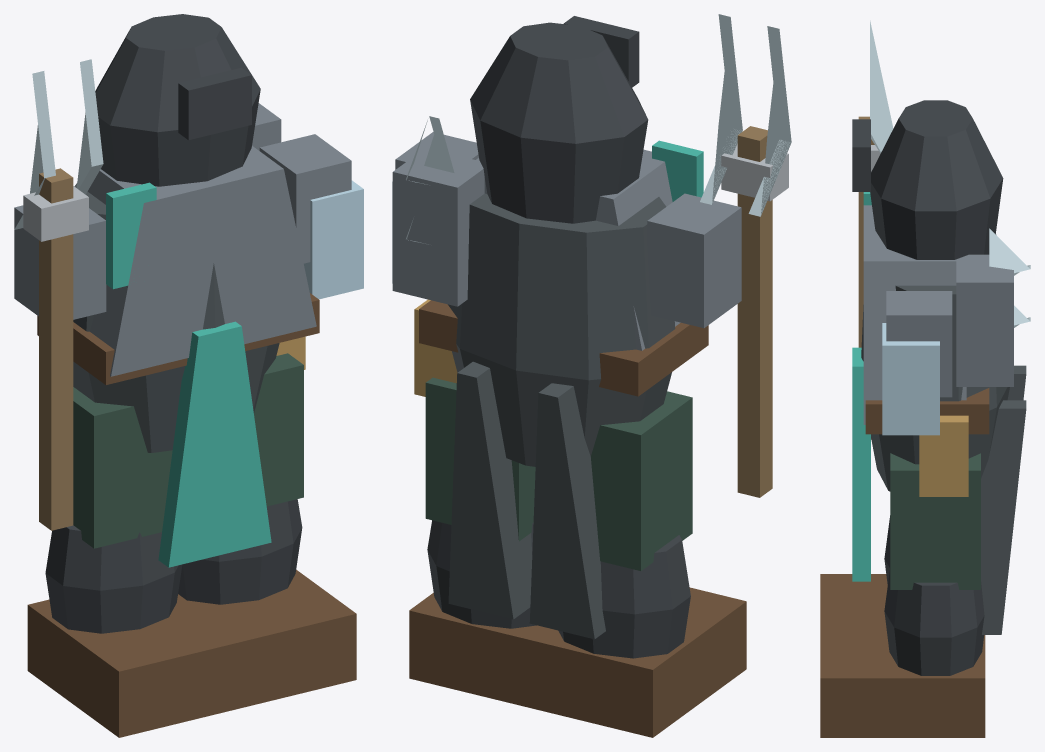
The model's file is unit-elementalist-ice.glb.
3 views of the same model, side by side, from view 1: azimuth 30°, elevation 25°; view 2: azimuth 150°, elevation 25°; view 3: azimuth 270°, elevation 25° (orthographic). The views are drawn at different scales.
Parts seen in each view (by area): view 1: Body, LegL, LegR, Weapon; view 2: Body, LegL, Weapon, LegR; view 3: Body, LegR, LegL, Weapon.
Boxes of the visible parts, box(x1,y1,x2,y2) form: Body: box(14, 14, 363, 567); LegL: box(27, 387, 237, 737); LegR: box(177, 353, 356, 708); Weapon: box(14, 59, 103, 530); Body: box(392, 16, 741, 639); LegL: box(531, 391, 746, 737); Weapon: box(700, 14, 791, 497); LegR: box(409, 377, 547, 707); Body: box(852, 100, 1030, 634); LegR: box(820, 453, 985, 737); LegL: box(820, 515, 890, 625); Weapon: box(858, 20, 893, 439).
Size of the model in its own units: 0.885 by 1.59 by 0.51.
